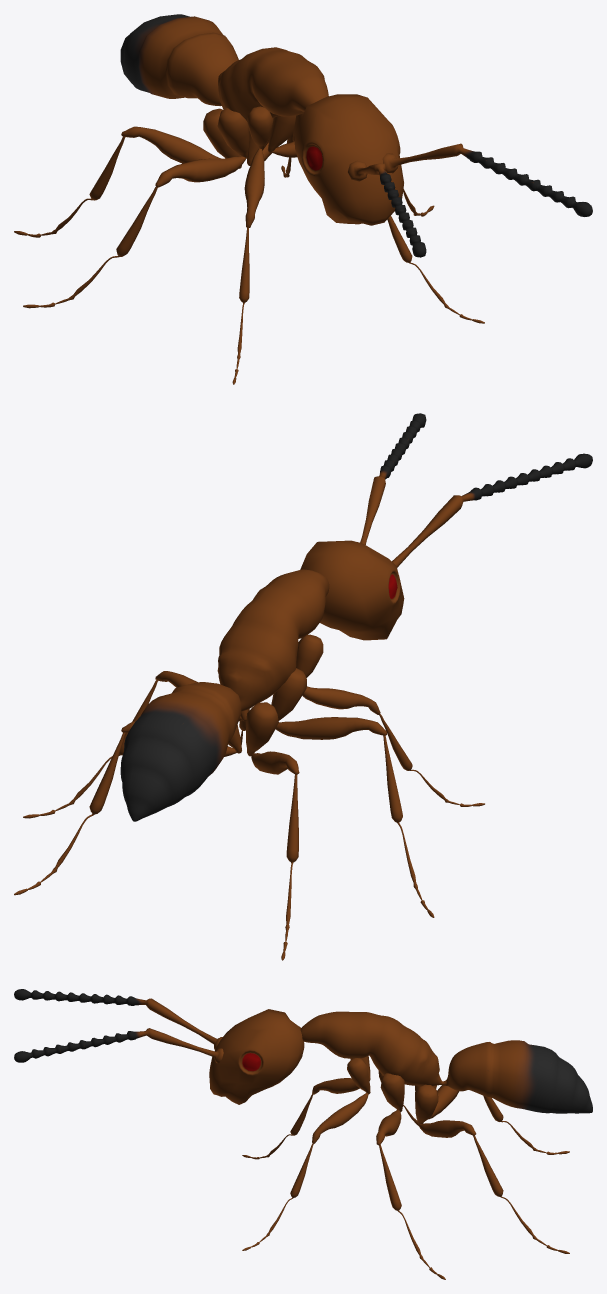
The model's file is Ant.fbx.
3 renders of one model, top to bottom at view 1: azimuth 30°, elevation 25°; view 2: azimuth 150°, elevation 25°; view 3: azimuth 270°, elevation 25°, orthographic. The views are drawn at different scales.
Parts seen in each view (by area): view 1: Cube.104; view 2: Cube.104; view 3: Cube.104.
Part boxes in pixels (bbox=[...]): Cube.104: bbox=[14, 14, 592, 384]; Cube.104: bbox=[14, 413, 592, 960]; Cube.104: bbox=[14, 989, 592, 1279].
Bounding box in the file's own units: 30.86 × 17.53 × 48.47.
